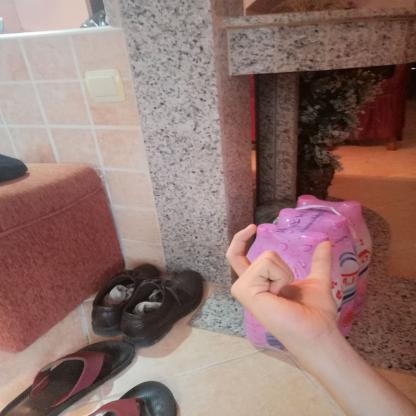NOON: (208, 214, 349, 348)
